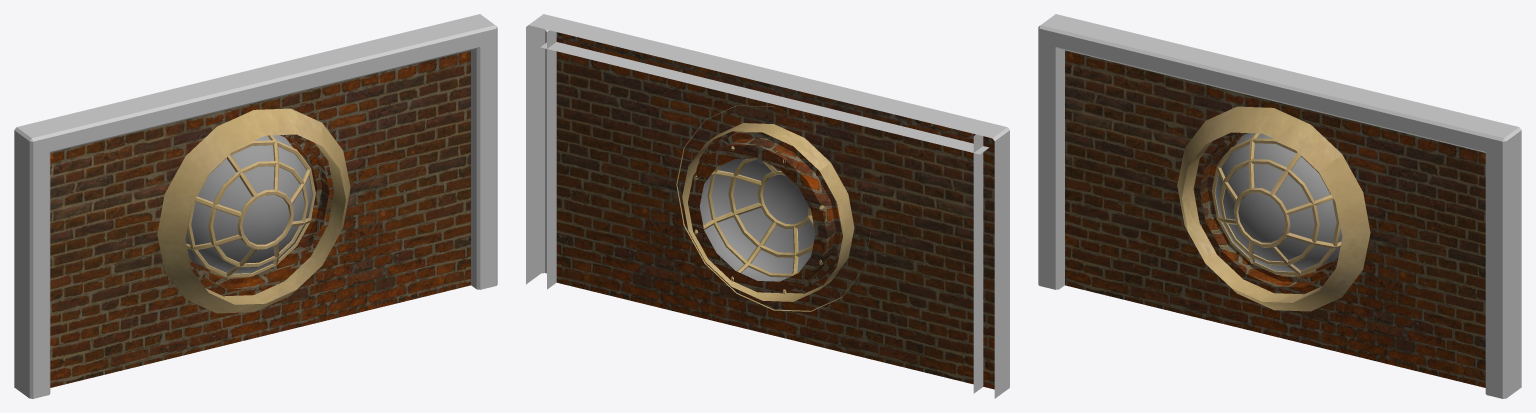
File: Mur_fenetre_spherique.FBX
3 views of the same model, side by side, from view 1: azimuth 30°, elevation 25°; view 2: azimuth 150°, elevation 25°; view 3: azimuth 330°, elevation 25° (orthographic).
Parts seen in each view (by area): view 1: Object005; view 2: Object005; view 3: Object005.
Boxes of the visible parts, x1,y1,x2,y2 form: Object005: (14,14,497,398); Object005: (526,14,1009,398); Object005: (1038,14,1521,398).
Size of the model in its own units: 315 by 36.87 by 167.
